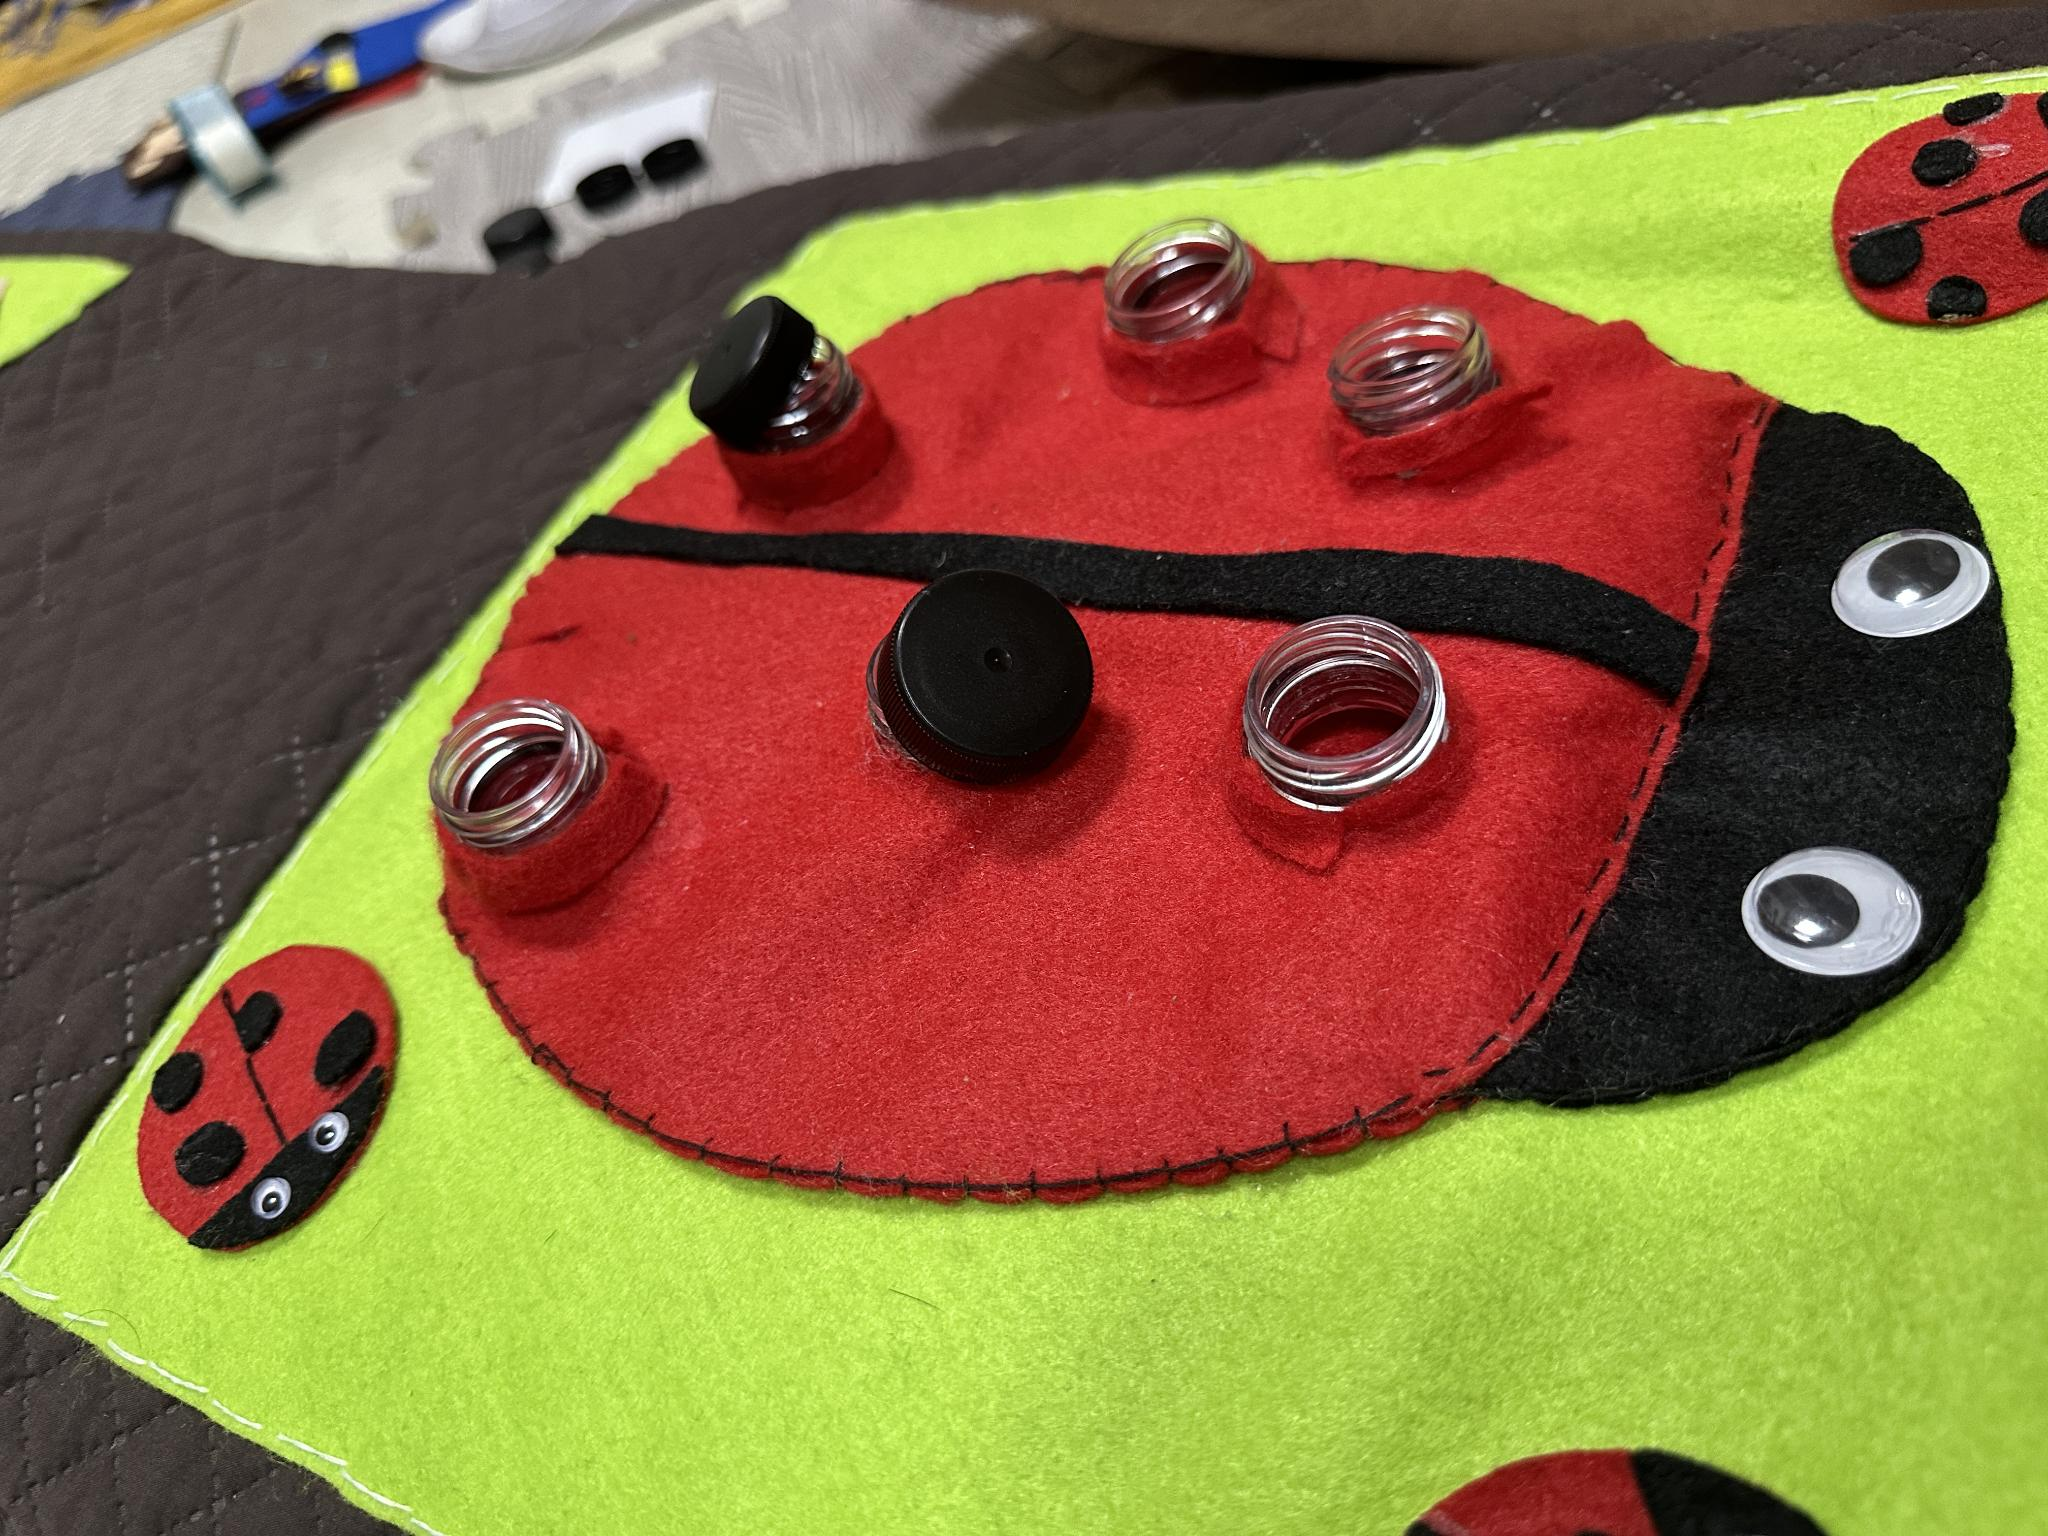cap_ng: (830, 558, 1114, 823), (687, 295, 903, 523)
